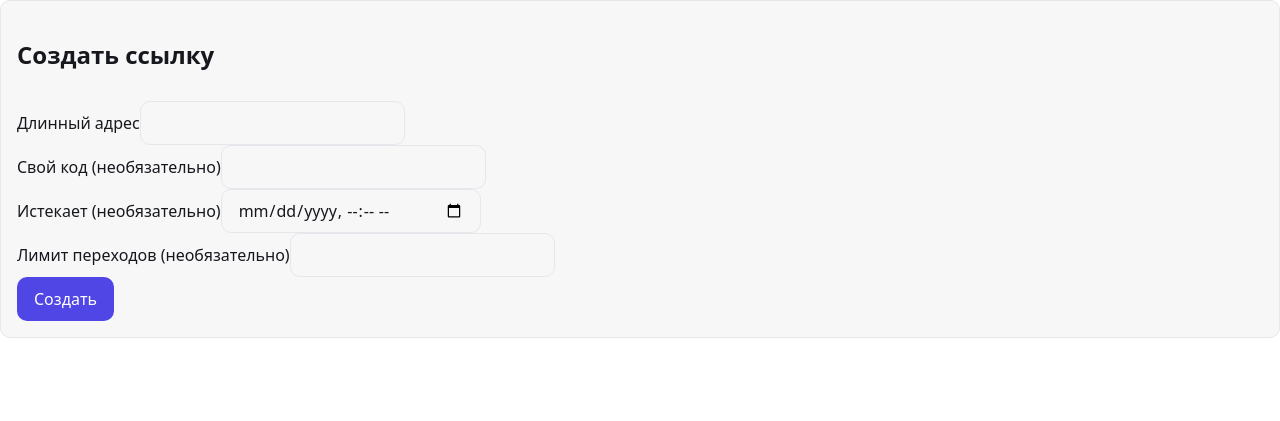
it: LinkForm › 500 даёт текст про сервис недоступен под формой
Type "https://example.com" into the field labelled "Длинный адрес". click: [272, 123]
box: top-left (140, 101), bottom-right (405, 145)
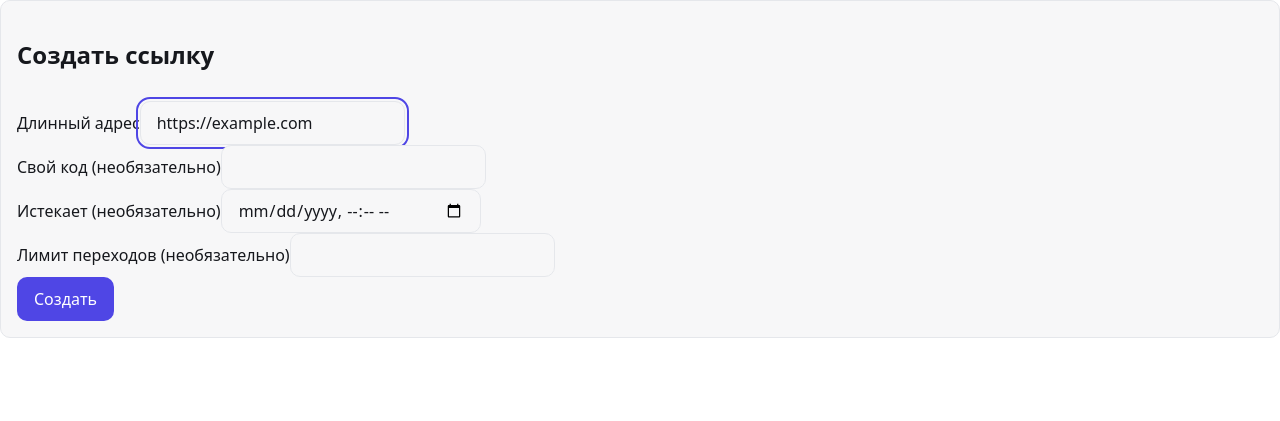
Click the button "Создать". click: [66, 299]
box: top-left (17, 277), bottom-right (114, 321)
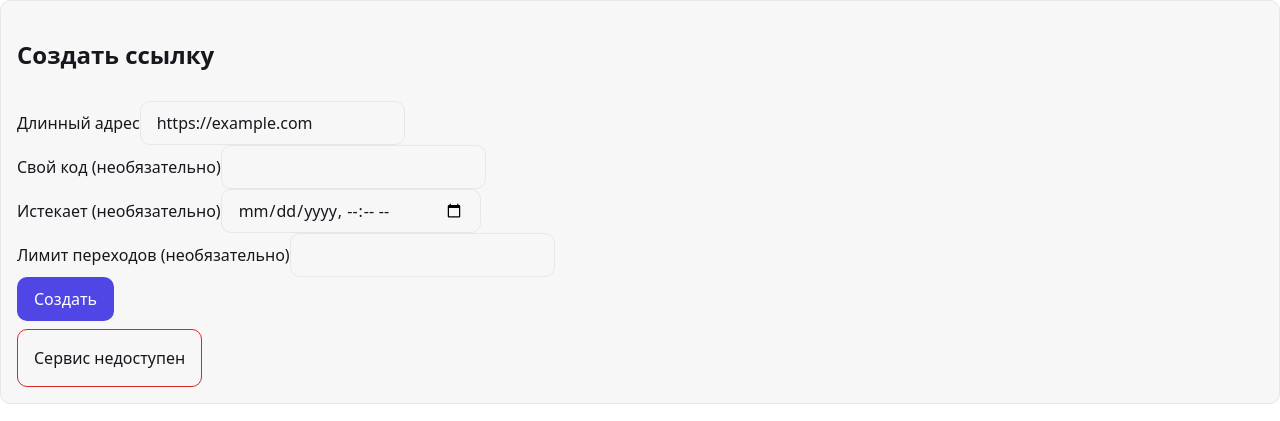
Result: the message reads "Сервис недоступен" at top-left (34, 347), bottom-right (185, 369)
